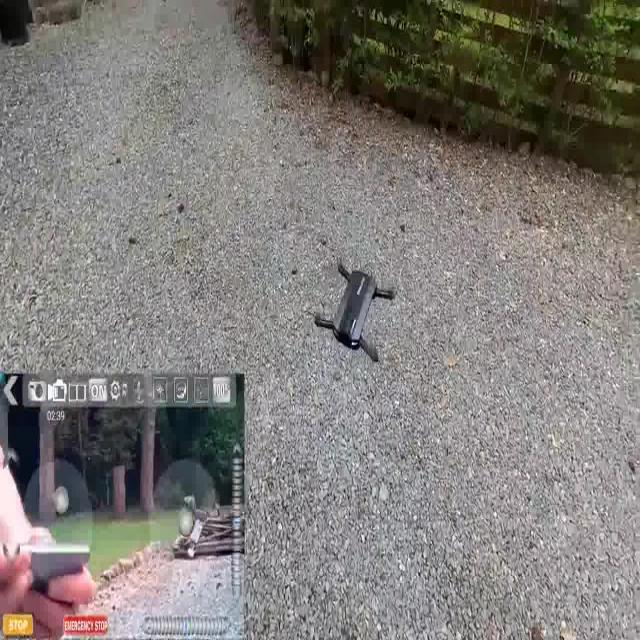drone: (312, 257, 397, 366)
